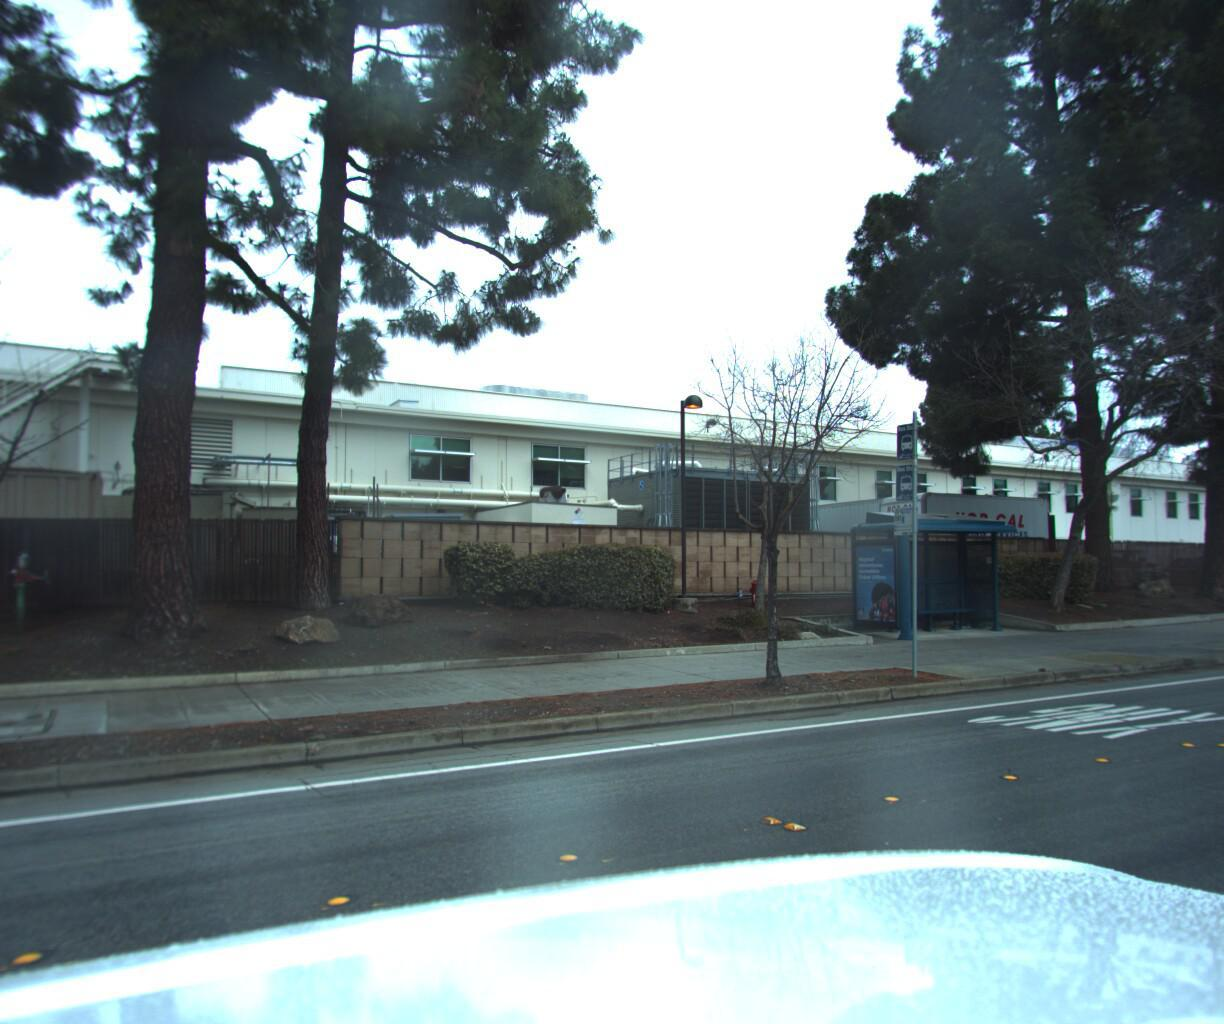truck: (843, 481, 1061, 578)
